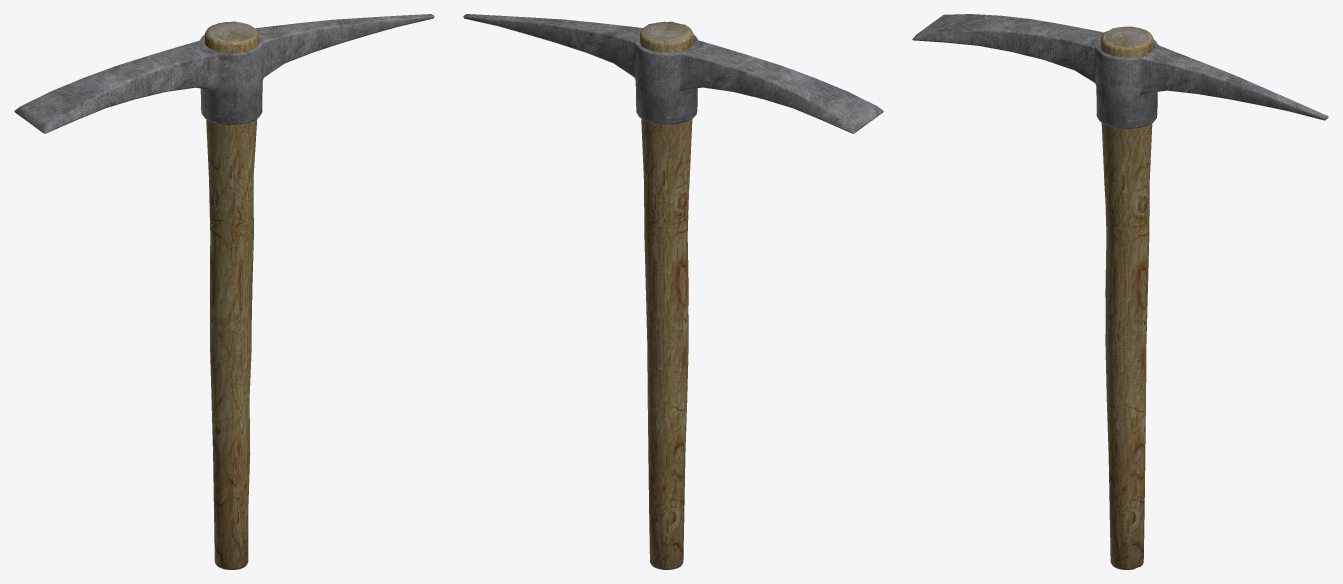
File: Pick.glb
3 renders of one model, left to right at view 1: azimuth 30°, elevation 25°; view 2: azimuth 150°, elevation 25°; view 3: azimuth 330°, elevation 25°, orthographic.
Parts seen in each view (by area): view 1: fbx; view 2: fbx; view 3: fbx.
Part boxes in pixels (<box>): fbx: <box>14,14,434,569</box>; fbx: <box>463,14,883,569</box>; fbx: <box>912,14,1328,569</box>.
Bounding box in the file's own units: 2.94 × 3.71 × 0.4026.
Materials: 1 (1 with a texture image).
